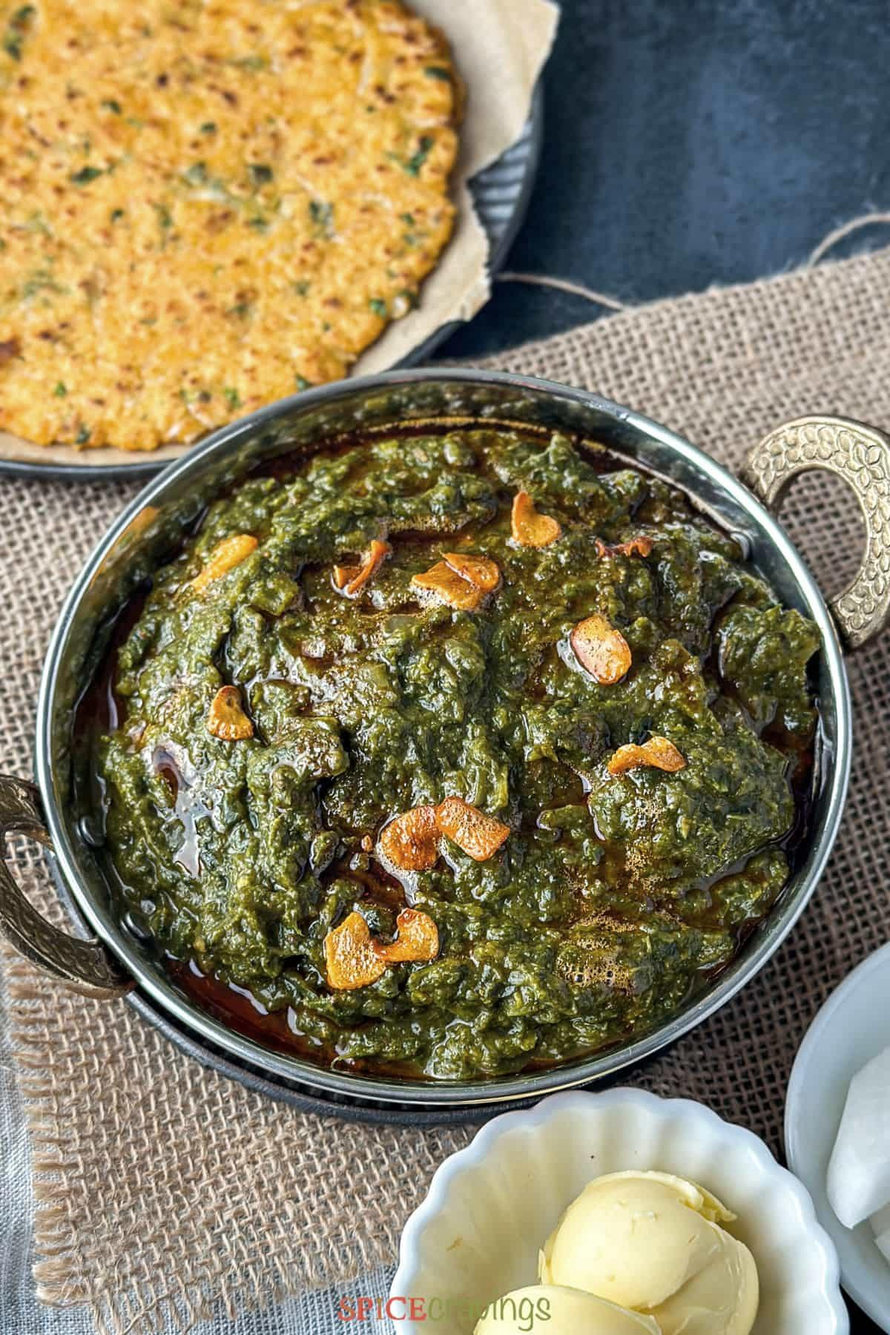saag: (69, 426, 821, 1073)
